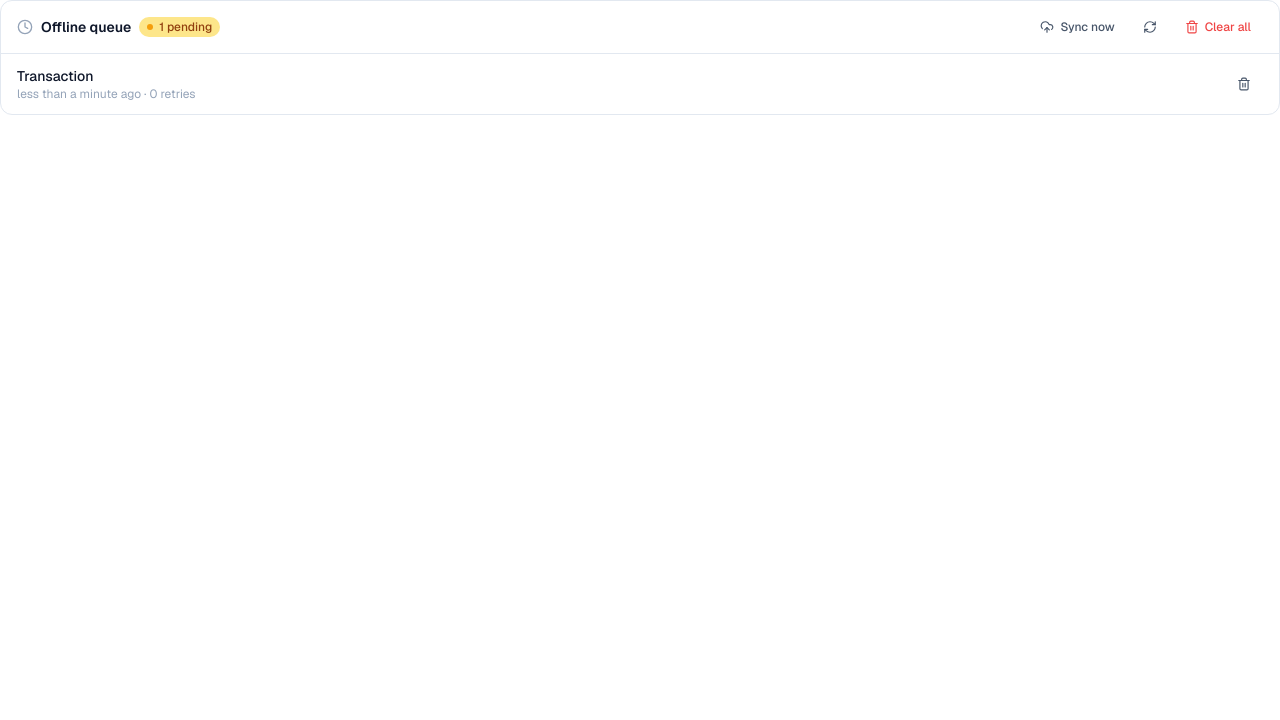
Test: SyncQueuePanel › refuses to sync while offline with a warning
Check: the text "Transaction" is shown, box [17,67,93,85]
Click the button with aria-label "Sync queued operations now": (1078, 27) [1028,13,1127,41]
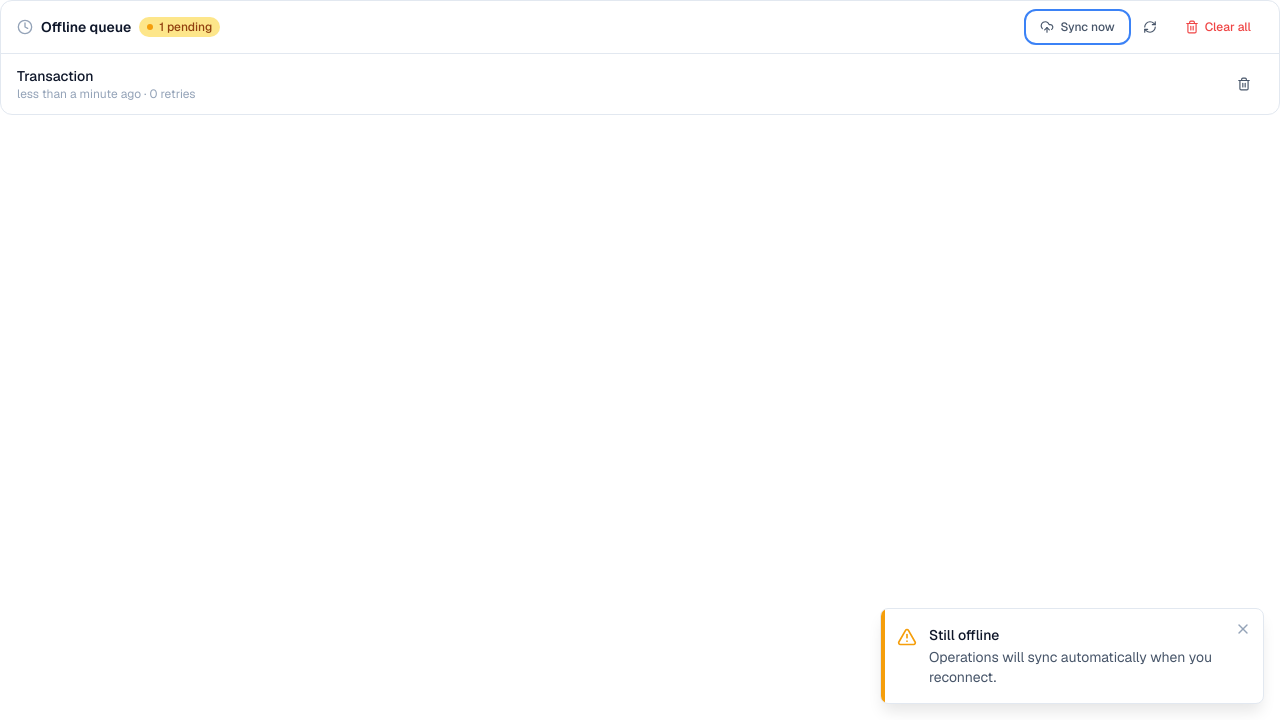
Check: the text "Still offline" is shown, box [929,626,999,644]
